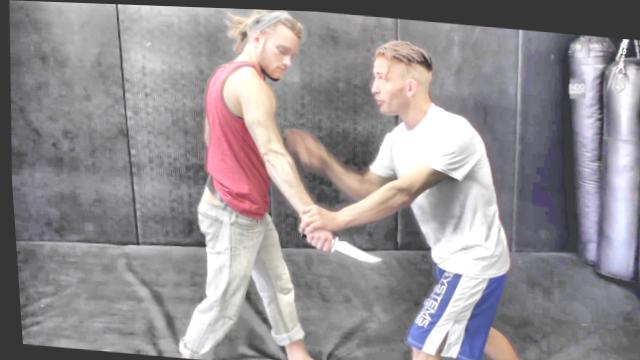knife: (295, 228, 382, 266)
